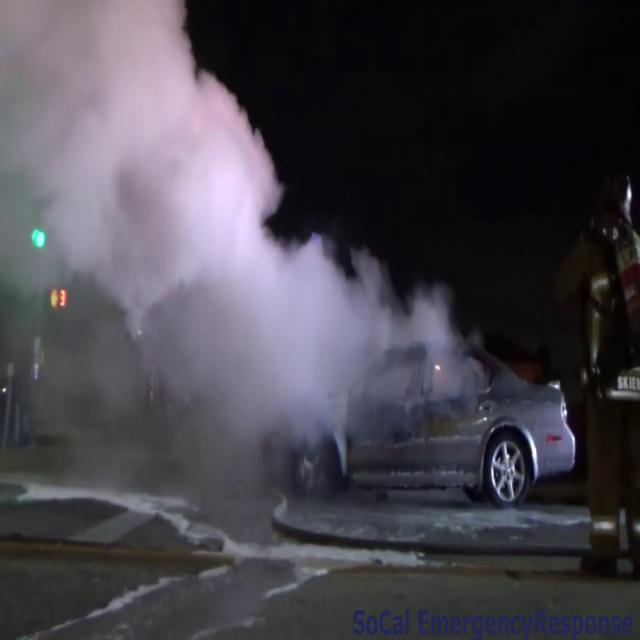Smoke: (0, 0, 400, 517)
